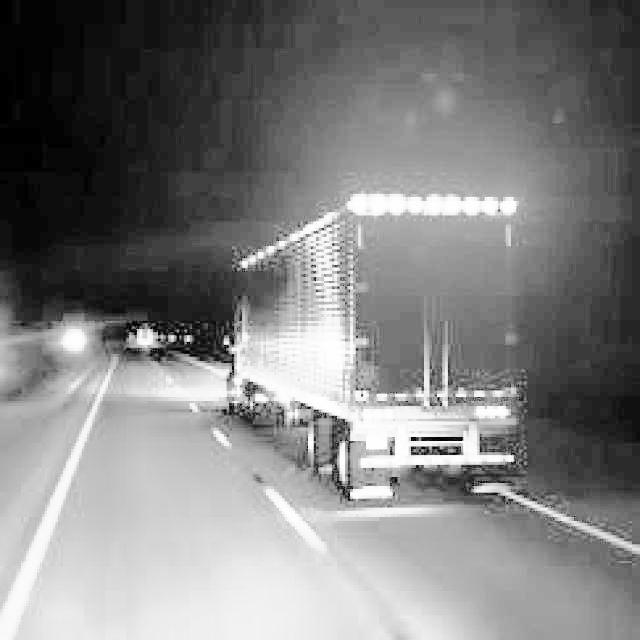Truck: (224, 188, 527, 502)
